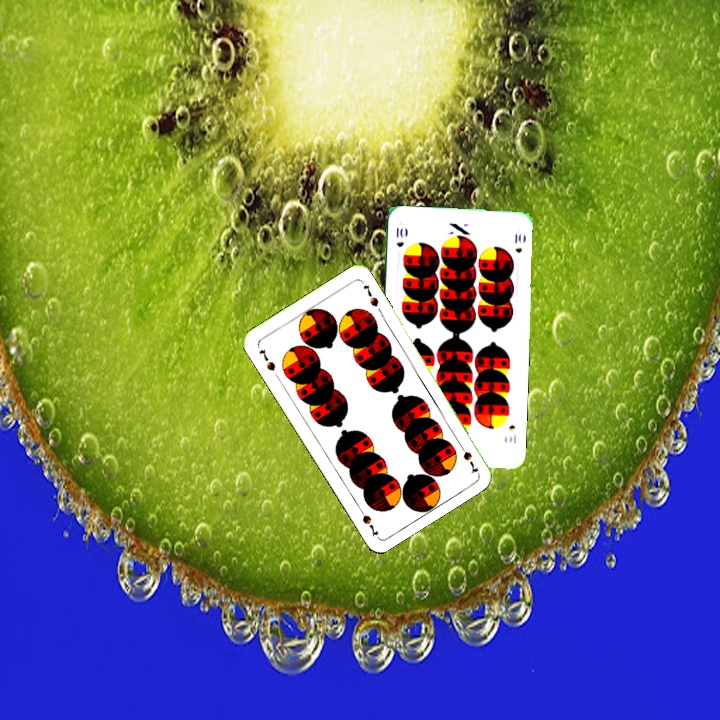S10: (392, 224, 406, 249), (505, 421, 518, 446)
S7: (455, 438, 481, 476), (255, 344, 278, 373)
